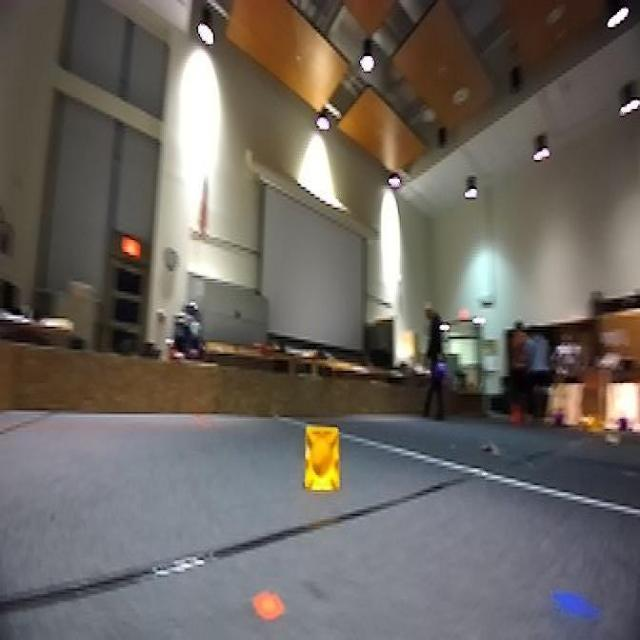frc_cone: (298, 424, 348, 500)
